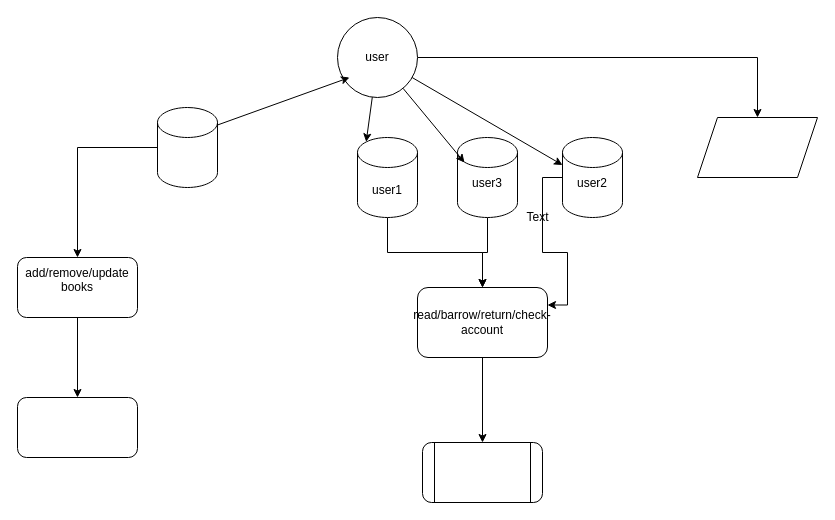
Image size: 835x520. Some labels were removed from this diagram. Here are the shapes that lost their labels. From the top down, the box of each, then its label:
(156, 106, 218, 188): admin
(696, 116, 818, 178): signup
(16, 396, 138, 458): add/ remove user
